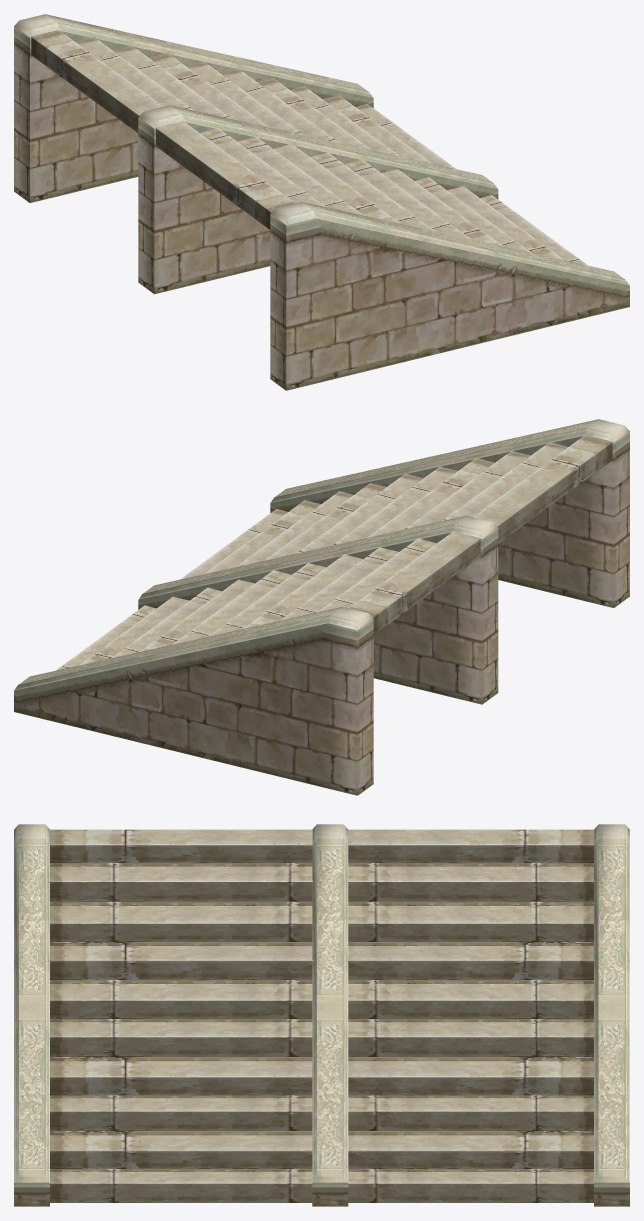
The picture shows the model from 3 angles, top to bottom: view 1: azimuth 30°, elevation 25°; view 2: azimuth 150°, elevation 25°; view 3: azimuth 270°, elevation 25°; orthographic projection. The views are drawn at different scales.
Visible parts, largest first — view 1: geom_node_0; view 2: geom_node_0; view 3: geom_node_0.
Part boxes in pixels (bbox=[...]): geom_node_0: bbox=[14, 14, 629, 390]; geom_node_0: bbox=[14, 419, 629, 795]; geom_node_0: bbox=[14, 824, 629, 1206].
Size of the model in its own units: 4.37 by 2.09 by 6.
1 material, 1 textured.
